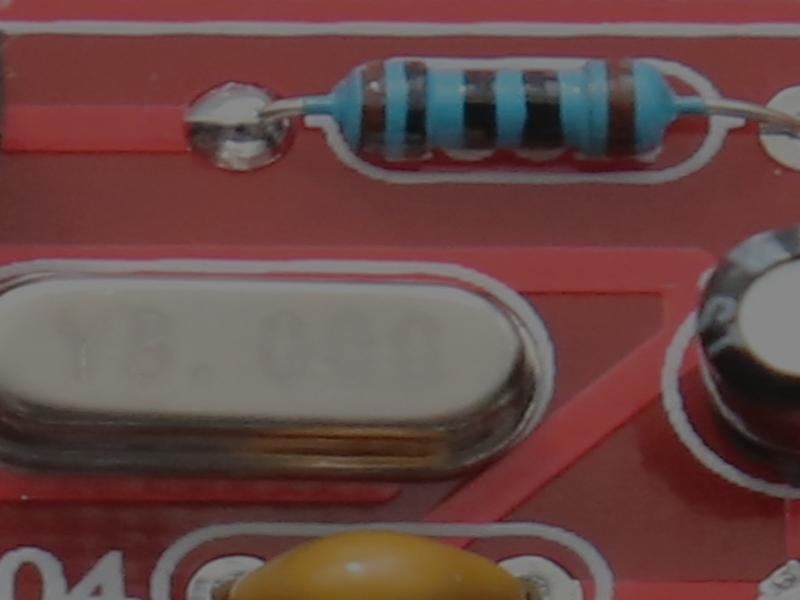Capacitor: (689, 211, 800, 499)
Resistor: (305, 49, 722, 175)
